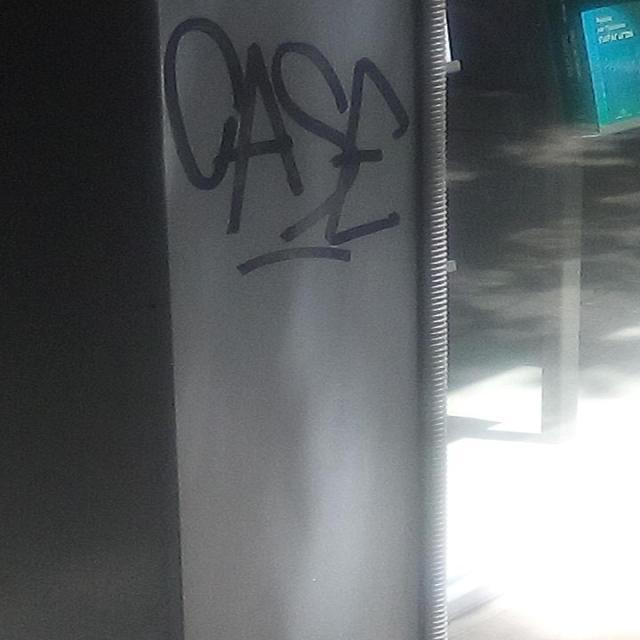nonspitting: (163, 15, 414, 274)
